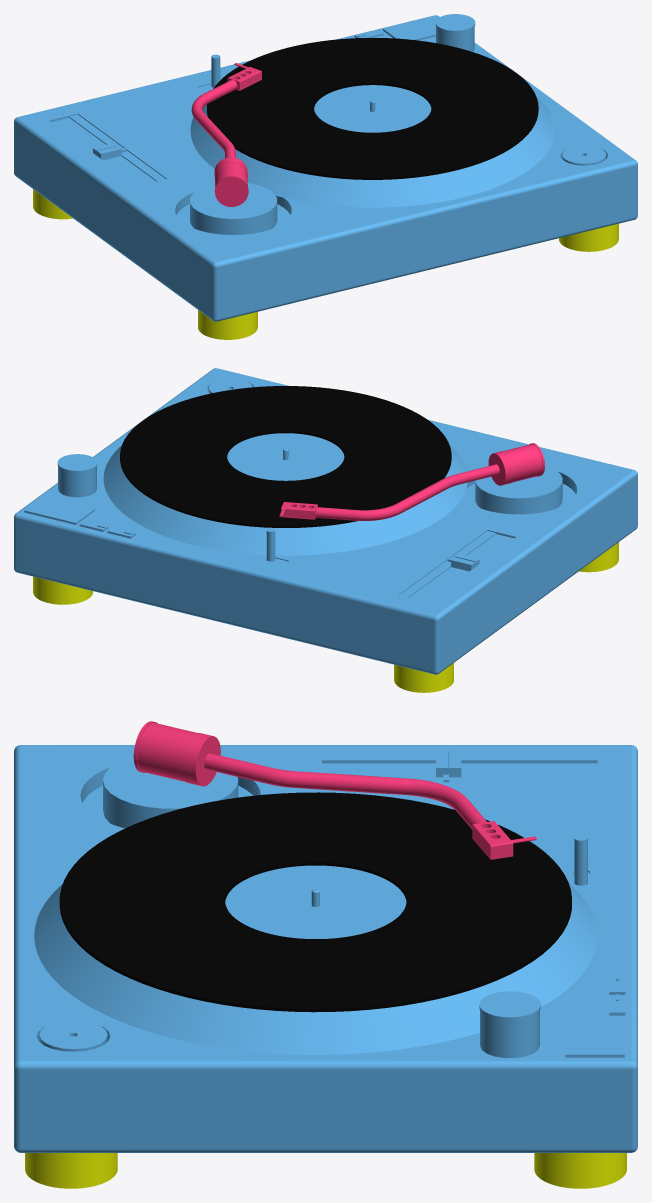
Rendered from Turntable.dae.
The picture shows the model from 3 angles, top to bottom: view 1: azimuth 30°, elevation 25°; view 2: azimuth 150°, elevation 25°; view 3: azimuth 270°, elevation 25°; orthographic projection. The views are drawn at different scales.
Visible parts, largest first — view 1: a8a6159f-f974-4ab5-bd4b-277467ff85e4, a2ab3e31-a6f9-4d73-91a7-68541a6ea0d2, a3cef2f2-b518-4e4b-8a0b-85c88a69798e, ad4a594a-25e5-4301-a062-30298badef5d, ae7df7d7-3190-4b27-86d8-8467d31d8f0f, e6e043d8-0254-4abd-bef0-851325eaa8fe; view 2: a8a6159f-f974-4ab5-bd4b-277467ff85e4, a2ab3e31-a6f9-4d73-91a7-68541a6ea0d2, a3cef2f2-b518-4e4b-8a0b-85c88a69798e, e6e043d8-0254-4abd-bef0-851325eaa8fe, a96c8375-6464-4cf8-9854-08d372c8035f, ad4a594a-25e5-4301-a062-30298badef5d; view 3: a8a6159f-f974-4ab5-bd4b-277467ff85e4, a2ab3e31-a6f9-4d73-91a7-68541a6ea0d2, a3cef2f2-b518-4e4b-8a0b-85c88a69798e, a96c8375-6464-4cf8-9854-08d372c8035f, ae7df7d7-3190-4b27-86d8-8467d31d8f0f.
Boxes of the visible parts, left/top/right/bottom form: a8a6159f-f974-4ab5-bd4b-277467ff85e4: left=14, top=14, right=637, bottom=321; a2ab3e31-a6f9-4d73-91a7-68541a6ea0d2: left=207, top=38, right=538, bottom=179; a3cef2f2-b518-4e4b-8a0b-85c88a69798e: left=191, top=63, right=261, bottom=206; ad4a594a-25e5-4301-a062-30298badef5d: left=198, top=310, right=257, bottom=339; ae7df7d7-3190-4b27-86d8-8467d31d8f0f: left=559, top=223, right=618, bottom=251; e6e043d8-0254-4abd-bef0-851325eaa8fe: left=33, top=189, right=72, bottom=219; a8a6159f-f974-4ab5-bd4b-277467ff85e4: left=14, top=368, right=637, bottom=674; a2ab3e31-a6f9-4d73-91a7-68541a6ea0d2: left=120, top=386, right=451, bottom=527; a3cef2f2-b518-4e4b-8a0b-85c88a69798e: left=279, top=443, right=544, bottom=520; e6e043d8-0254-4abd-bef0-851325eaa8fe: left=394, top=663, right=453, bottom=692; a96c8375-6464-4cf8-9854-08d372c8035f: left=33, top=576, right=92, bottom=604; ad4a594a-25e5-4301-a062-30298badef5d: left=579, top=542, right=618, bottom=572; a8a6159f-f974-4ab5-bd4b-277467ff85e4: left=14, top=745, right=637, bottom=1152; a2ab3e31-a6f9-4d73-91a7-68541a6ea0d2: left=59, top=792, right=571, bottom=1012; a3cef2f2-b518-4e4b-8a0b-85c88a69798e: left=133, top=721, right=536, bottom=859; a96c8375-6464-4cf8-9854-08d372c8035f: left=534, top=1153, right=626, bottom=1188; ae7df7d7-3190-4b27-86d8-8467d31d8f0f: left=25, top=1153, right=117, bottom=1188.
Bounding box in the file's own units: 450 × 370 × 128.
